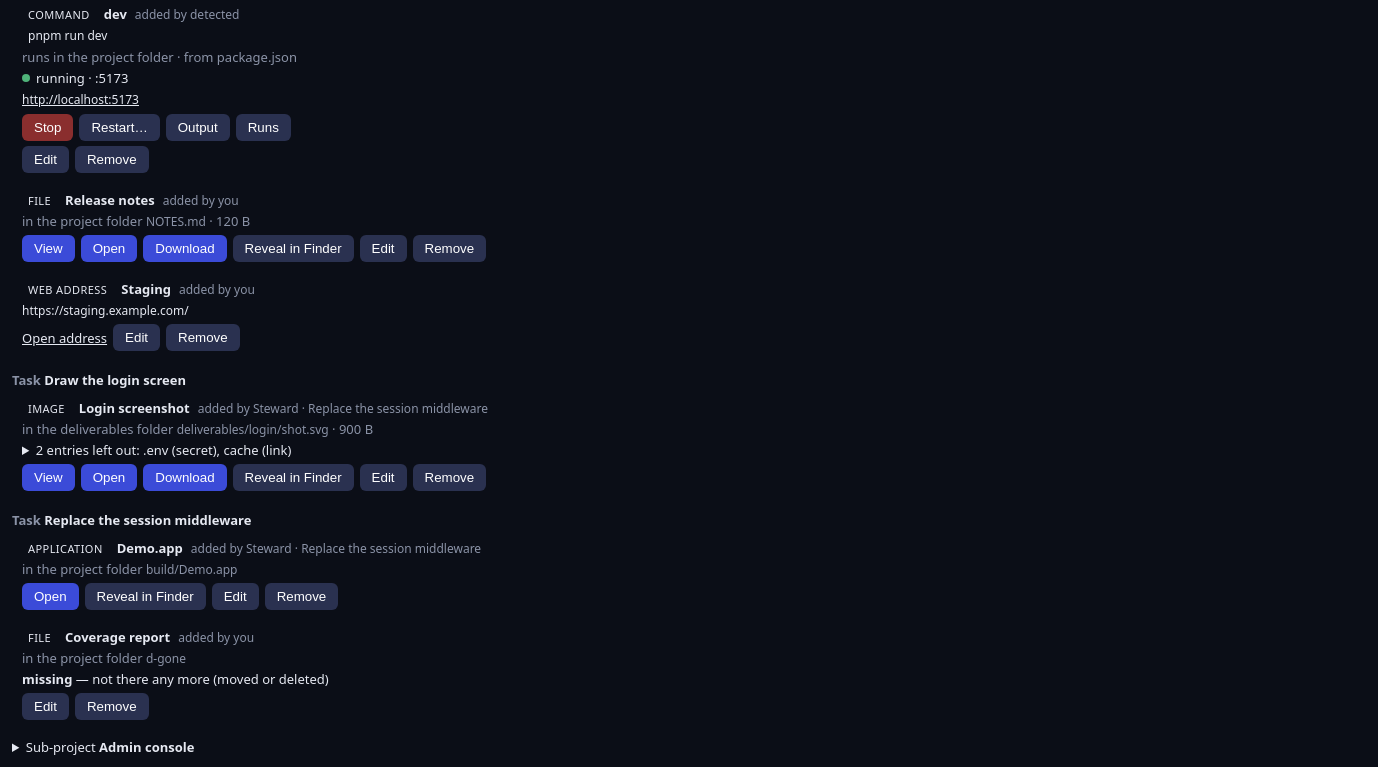
Test: actions per kind on the Mac (decisions 125, 127, 128) › asks before opening an application: name, who added it, never opened before; Keep first
(page scrolled)
Click the button "Open" below "application": (50, 596) x1=22 y1=583 x2=79 y2=610
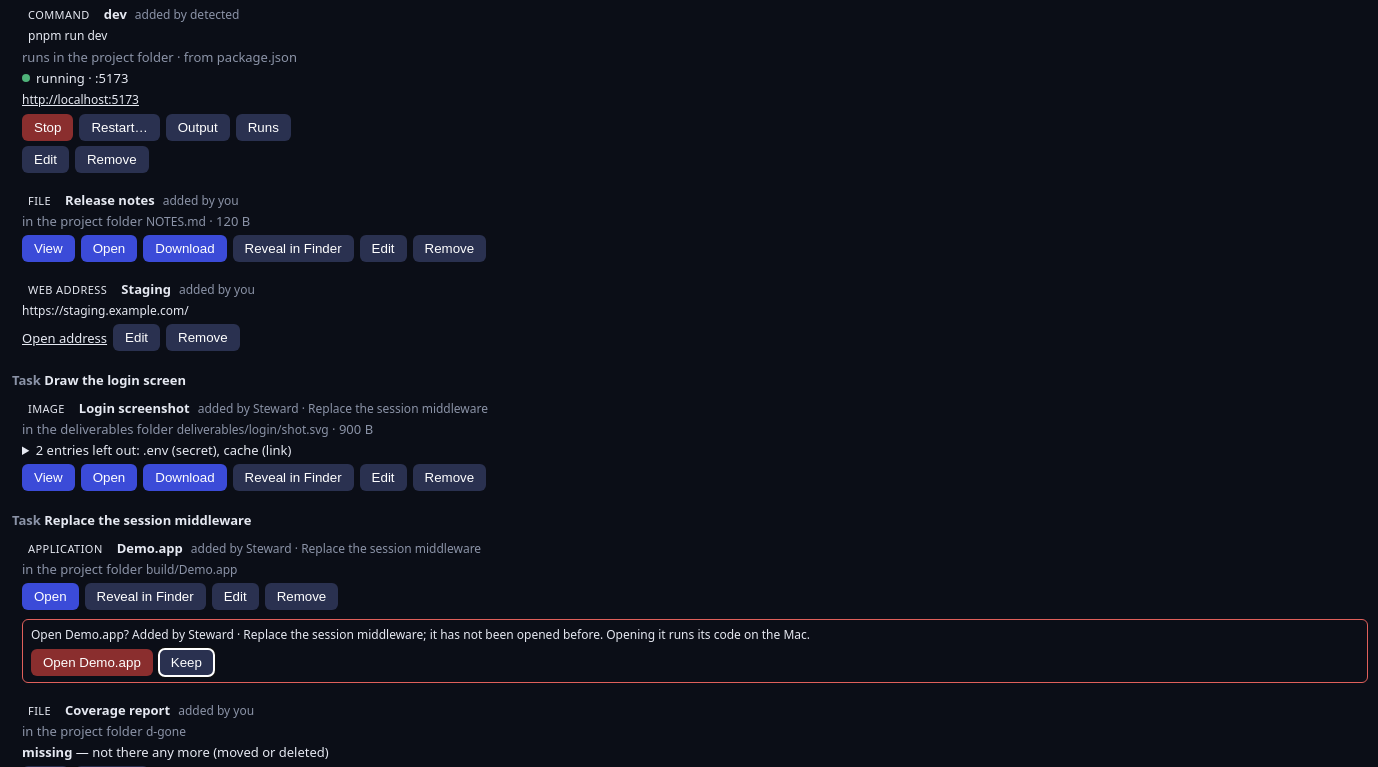
expect the element named "confirm" shows "Open Demo.app? Added by": met, box x1=31 y1=626 x2=810 y2=643
expect the element named "confirm" shows "it has not been opened before": met, box x1=31 y1=626 x2=810 y2=643
expect the button "Keep" is shown: met, box x1=159 y1=649 x2=214 y2=676
Click the button "Open Demo.app": (92, 662) x1=31 y1=649 x2=153 y2=676
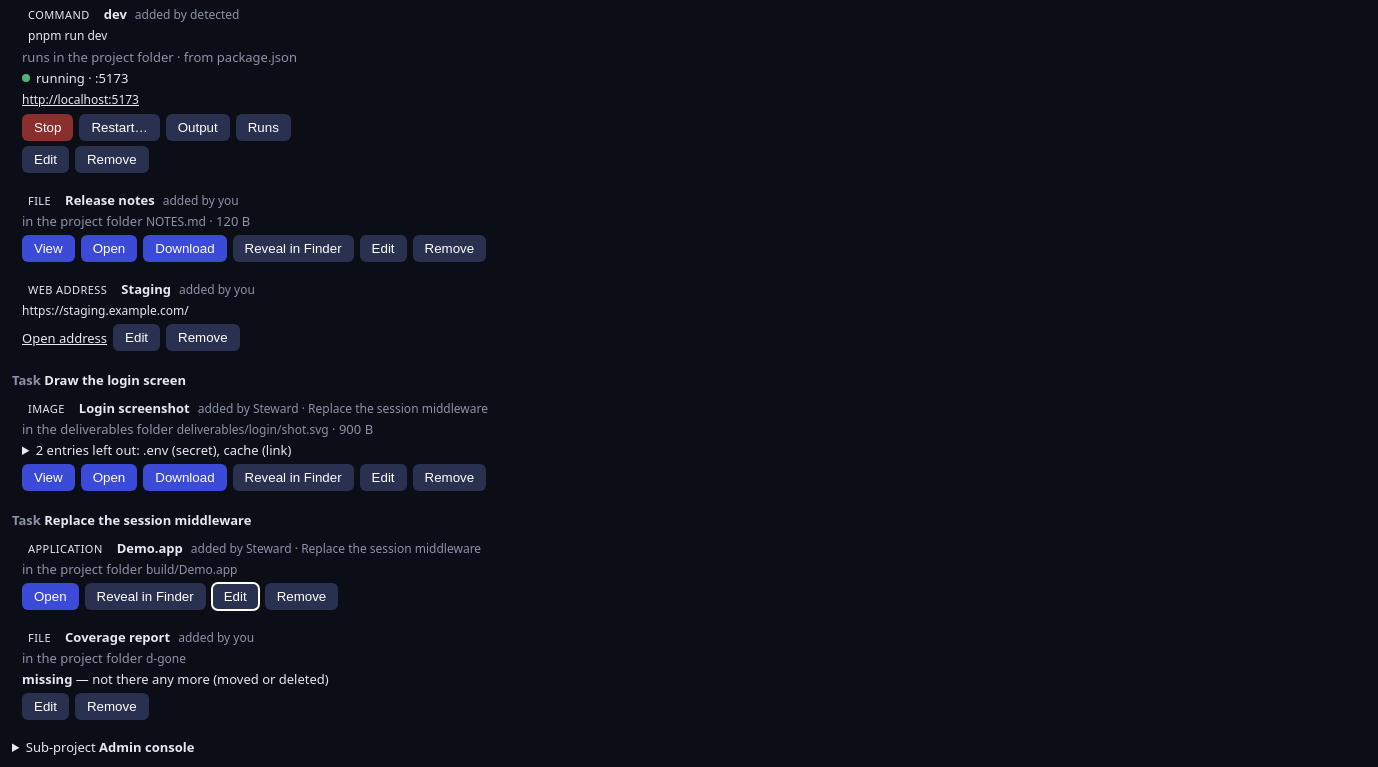
expect the element "confirm" is gone: met
